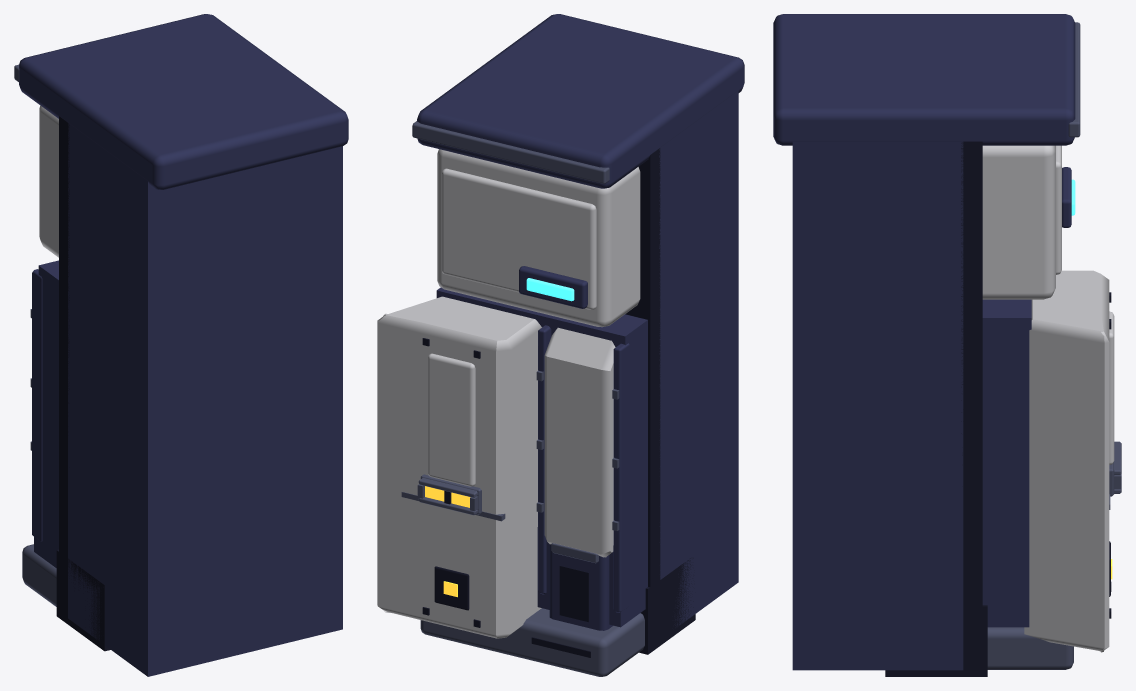
Rendered from hull.bay.plate_large.canopy_sill.none.plate.w0.985.s3.k-1.25.t-0.95_0.42_1.3_1.85.glb.
3 renders of one model, left to right at view 1: azimuth 30°, elevation 25°; view 2: azimuth 150°, elevation 25°; view 3: azimuth 270°, elevation 25°, orthographic. The views are drawn at different scales.
Parts seen in each view (by area): view 1: hull.bay.plate_large.canopy_sill.none.plate.w0.985.s3.k-1.25; view 2: hull.bay.plate_large.canopy_sill.none.plate.w0.985.s3.k-1.25; view 3: hull.bay.plate_large.canopy_sill.none.plate.w0.985.s3.k-1.25.
Boxes of the visible parts, x1,y1,x2,y2 form: hull.bay.plate_large.canopy_sill.none.plate.w0.985.s3.k-1.25: [14, 14, 348, 676]; hull.bay.plate_large.canopy_sill.none.plate.w0.985.s3.k-1.25: [377, 14, 744, 676]; hull.bay.plate_large.canopy_sill.none.plate.w0.985.s3.k-1.25: [773, 14, 1121, 676].
Size of the model in its own units: 1.1 by 2.56 by 1.43.
